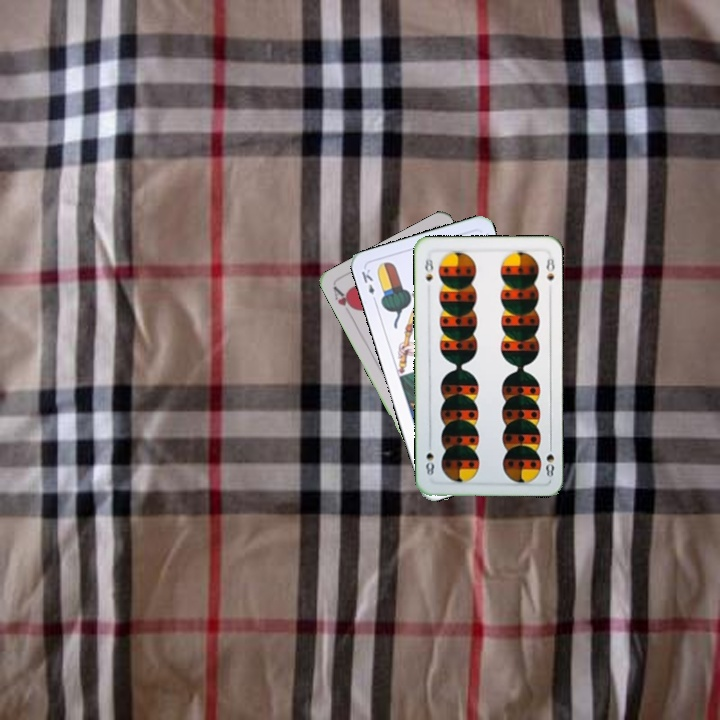EK: (357, 265, 379, 305)
HA: (329, 283, 359, 320)
S8: (542, 439, 557, 480), (421, 255, 436, 284)
